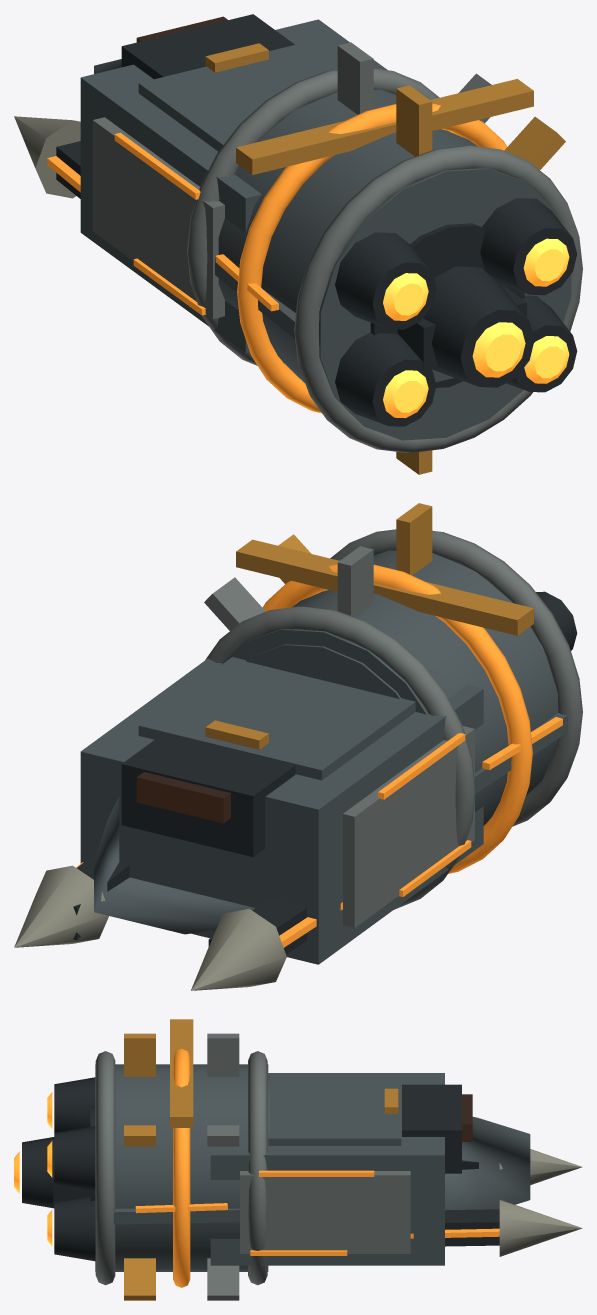
The model's file is holder-abyssal-driller.glb.
3 renders of one model, top to bottom at view 1: azimuth 30°, elevation 25°; view 2: azimuth 150°, elevation 25°; view 3: azimuth 270°, elevation 25°, orthographic. The views are drawn at different scales.
Visible parts, largest first — view 1: prestige_refinery_drum, obsidian_ring_engine_cowling (×5), rear_refinery_drum_band, obsidian_pressure_hull, left_reinforced_hull_side_panel, gunmetal_top_armor_slab, obsidian_ring_engine_core (×5), middle_muted_amber_drum_band, front_refinery_drum_band, attached_mining_ring_carapace, low_obsidian_canopy_block, dark_refinery_core (+12 smaller); view 2: obsidian_pressure_hull, prestige_refinery_drum, gunmetal_top_armor_slab, left_reinforced_hull_side_panel, low_obsidian_canopy_block, front_refinery_drum_band, rear_refinery_drum_band, middle_muted_amber_drum_band, attached_mining_ring_carapace, armored_original_mining_nose, worn_steel_mining_bit_l, worn_steel_mining_bit_r (+13 smaller); view 3: prestige_refinery_drum, obsidian_pressure_hull, right_reinforced_hull_side_panel, gunmetal_top_armor_slab, obsidian_ring_engine_cowling (×4), armored_original_mining_nose, rear_refinery_drum_band, front_refinery_drum_band, low_obsidian_canopy_block, middle_muted_amber_drum_band, worn_steel_mining_bit_r, attached_mining_ring_carapace (+16 smaller).
Boxes of the visible parts, x1,y1,x2,y2 form: prestige_refinery_drum: (218, 89, 571, 440); obsidian_ring_engine_cowling (×5): (335, 198, 577, 426); rear_refinery_drum_band: (294, 145, 582, 452); obsidian_pressure_hull: (80, 19, 387, 353); left_reinforced_hull_side_panel: (92, 117, 224, 318); gunmetal_top_armor_slab: (138, 38, 337, 151); obsidian_ring_engine_core (×5): (383, 238, 569, 418); middle_muted_amber_drum_band: (237, 103, 507, 413); front_refinery_drum_band: (187, 68, 439, 365); attached_mining_ring_carapace: (236, 79, 533, 174); low_obsidian_canopy_block: (121, 14, 294, 79); dark_refinery_core: (370, 223, 524, 387); obsidian_pressure_hull: (80, 658, 483, 964); prestige_refinery_drum: (221, 550, 558, 825); gunmetal_top_armor_slab: (138, 657, 415, 780); left_reinforced_hull_side_panel: (343, 726, 474, 927); low_obsidian_canopy_block: (121, 733, 295, 857); front_refinery_drum_band: (205, 606, 475, 909); rear_refinery_drum_band: (330, 529, 582, 826); middle_muted_amber_drum_band: (262, 564, 532, 873); attached_mining_ring_carapace: (236, 539, 533, 635); armored_original_mining_nose: (94, 796, 254, 934); worn_steel_mining_bit_l: (191, 908, 286, 990); worn_steel_mining_bit_r: (14, 865, 108, 947); prestige_refinery_drum: (95, 1064, 268, 1271); obsidian_pressure_hull: (210, 1073, 444, 1265); right_reinforced_hull_side_panel: (240, 1171, 410, 1253); gunmetal_top_armor_slab: (268, 1075, 401, 1145); obsidian_ring_engine_cowling (×4): (22, 1077, 95, 1261); armored_original_mining_nose: (445, 1117, 530, 1210); rear_refinery_drum_band: (95, 1051, 115, 1285); front_refinery_drum_band: (248, 1051, 267, 1285); low_obsidian_canopy_block: (402, 1084, 461, 1173); middle_muted_amber_drum_band: (173, 1048, 190, 1287); worn_steel_mining_bit_r: (499, 1199, 582, 1256); attached_mining_ring_carapace: (170, 1019, 193, 1127).
Size of the model in its own units: 3.92 by 4.72 by 9.27.
